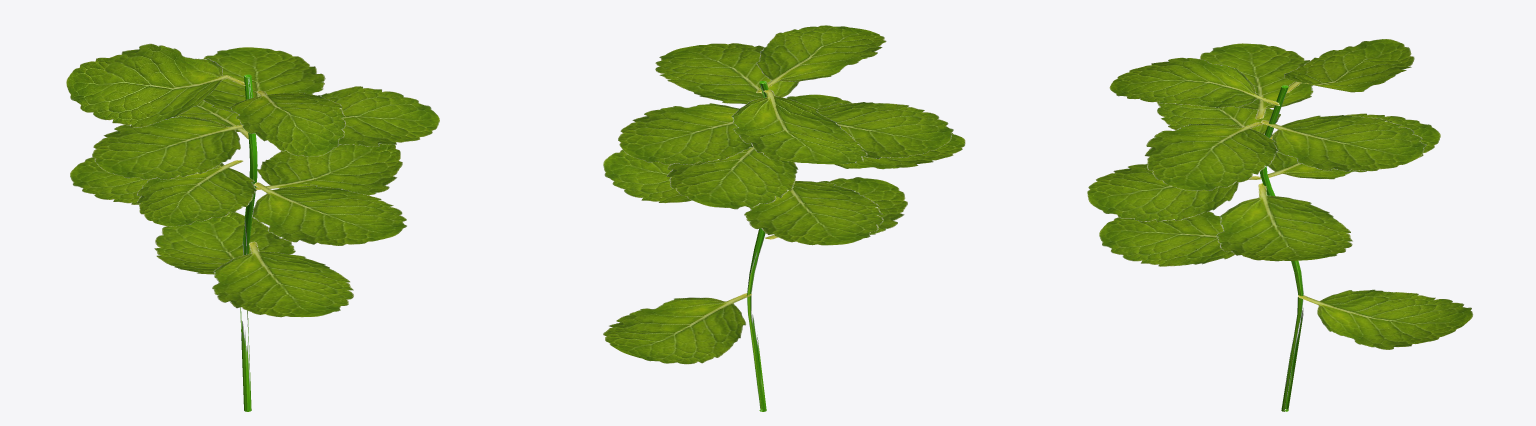
File: pudhina.fbx
3 renders of one model, left to right at view 1: azimuth 30°, elevation 25°; view 2: azimuth 150°, elevation 25°; view 3: azimuth 270°, elevation 25°, orthographic. The views are drawn at different scales.
Parts seen in each view (by area): view 1: pudhina1; view 2: pudhina1; view 3: pudhina1.
Part boxes in pixels (x1,y1,x2,y2): pudhina1: (66, 43, 439, 411); pudhina1: (603, 25, 965, 411); pudhina1: (1087, 39, 1473, 411).
Bounding box in the file's own units: 7.48 × 6.02 × 7.98.
2 materials, 2 textured.
